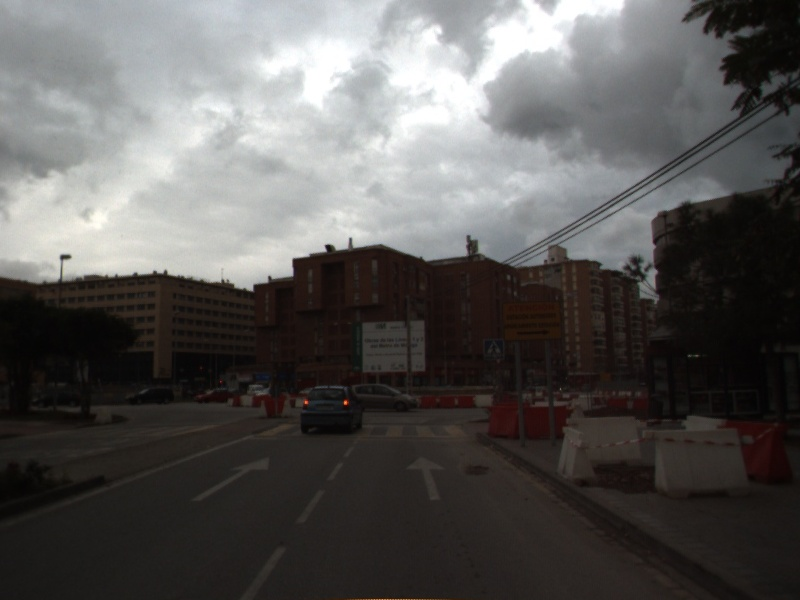STRAIGHT: (189, 454, 272, 503), (404, 453, 448, 502)
